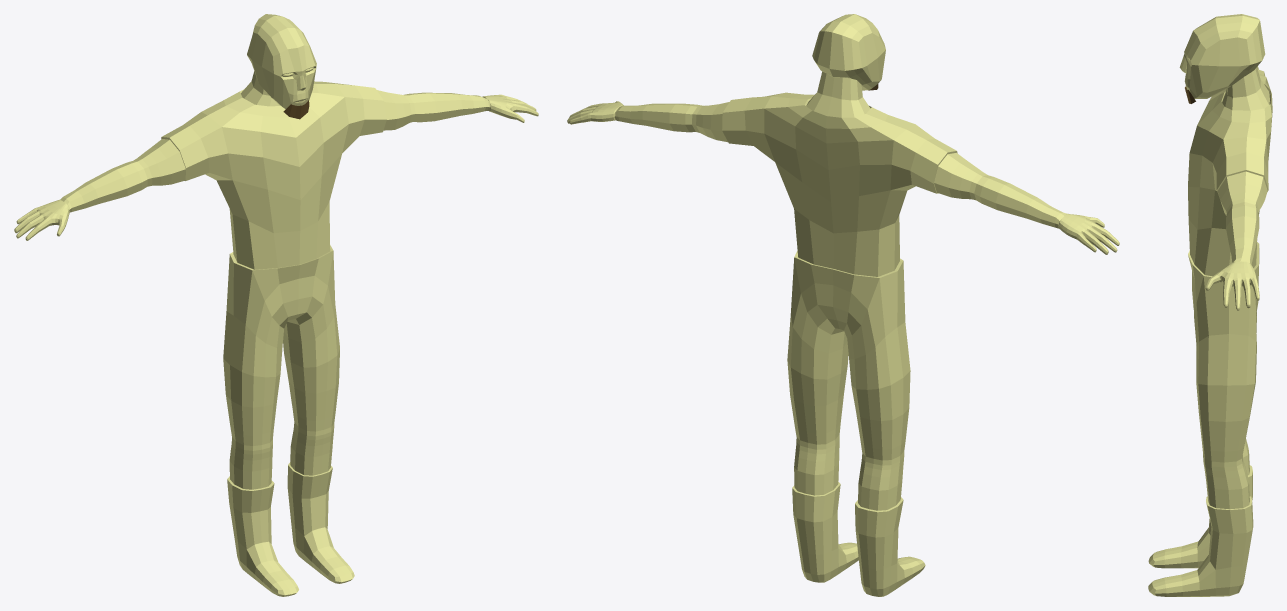
The model's file is ShadowSentinelBase.fbx.
3 renders of one model, left to right at view 1: azimuth 30°, elevation 25°; view 2: azimuth 150°, elevation 25°; view 3: azimuth 270°, elevation 25°, orthographic. The views are drawn at different scales.
Visible parts, largest first — view 1: Done.017; view 2: Done.017; view 3: Done.017.
Part boxes in pixels (bbox=[...]): Done.017: bbox=[14, 14, 538, 596]; Done.017: bbox=[567, 14, 1119, 596]; Done.017: bbox=[1148, 14, 1272, 596].
Size of the model in its own units: 415 by 415 by 83.
